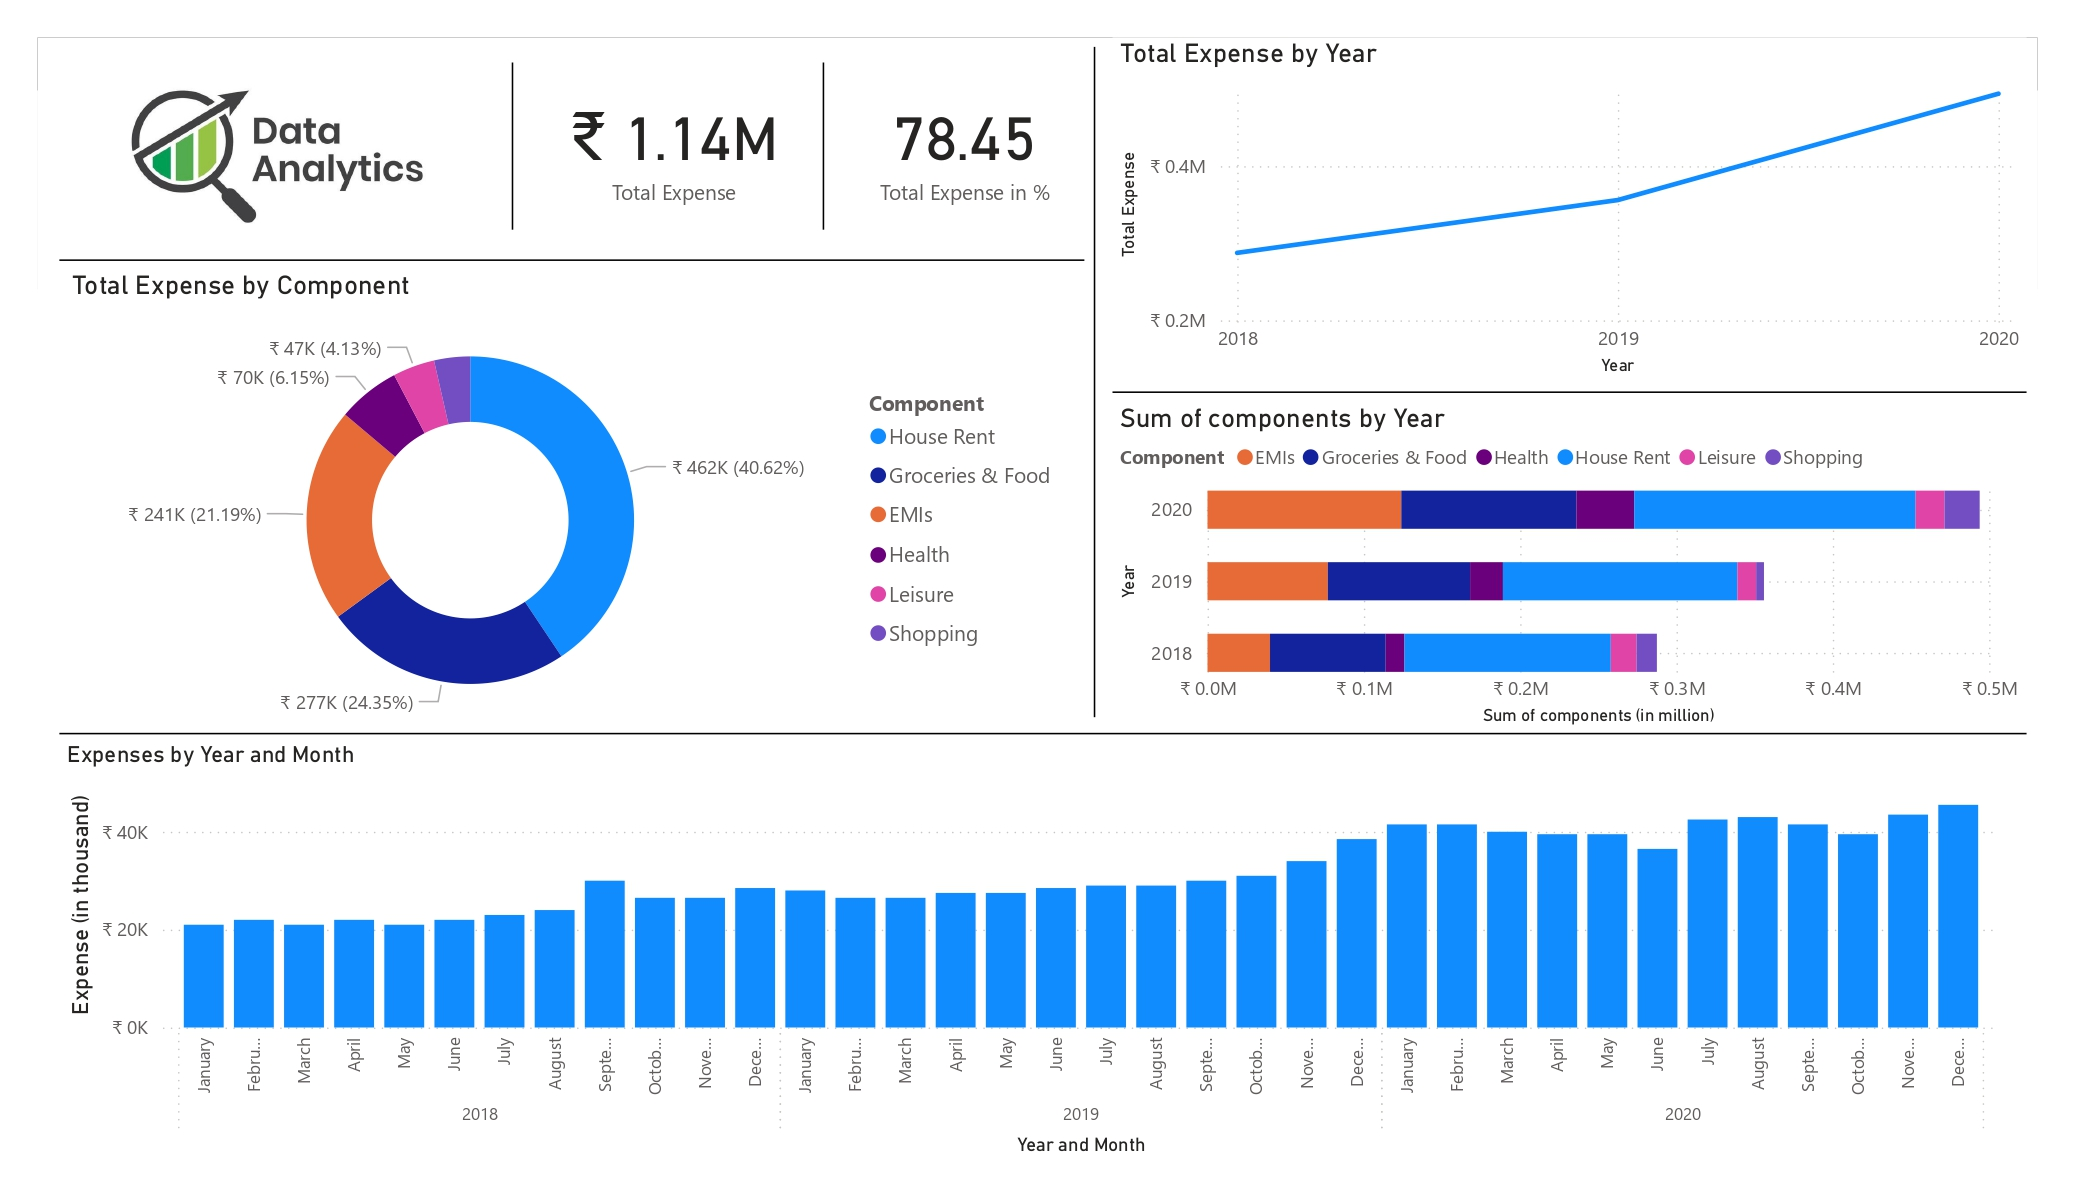

This screenshot's page, from the dashboard's own definition file:
{"tool":"powerbi","page":{"name":"Expenses","canvas":[1280,720],"ordinal":2},"visuals":[{"type":"columnChart","title":"Expenses by Year and Month","fields":{"Category":["FinData.Date.Variation.Date Hierarchy.Year","FinData.Date.Variation.Date Hierarchy.Month"],"Y":["FinData.Total Expense"]},"box":[13.8,451.2,1246.2,268.8],"z":0},{"type":"image","box":[0,0,307.4,142],"z":1000},{"type":"card","fields":{"Values":["FinData.Total Expense"]},"box":[321,23.5,172.8,93.8],"z":2000},{"type":"card","fields":{"Values":["FinData.Total Expense in %"]},"box":[503.7,23.5,179,93.8],"z":3000},{"type":"donutChart","fields":{"Category":["FinData.Component"],"Y":["FinData.Total Expense"]},"box":[17.3,148.1,645.7,302.5],"z":4000},{"type":"barChart","title":"Sum of components by Year","fields":{"Category":["FinData.Year"],"Series":["FinData.Component"],"Y":["FinData.Total Expense"]},"box":[687.5,232.5,585,212.5],"z":5000},{"type":"shape","box":[301.2,16,6.2,107.4],"z":6000},{"type":"shape","box":[495.1,16,16,107.4],"z":7000},{"type":"shape","box":[670,6.2,12.5,428.8],"z":8000},{"type":"shape","box":[13.8,136.2,656.2,12.5],"z":9000},{"type":"shape","box":[13.8,440,1258.8,11.2],"z":10000},{"type":"shape","box":[687.5,221.2,585,11.2],"z":11000},{"type":"lineChart","fields":{"Y":["FinData.Total Expense"],"Category":["FinData.Date.Variation.Date Hierarchy.Year"]},"box":[687.5,0,585,221.2],"z":12000}]}

Visuals, with their boxes in screenshot pixels (x1, y1, x2, y2):
"Expenses by Year and Month" columnChart: 59, 742, 2006, 1162
image: 38, 38, 518, 259
card - FinData.Total Expense: 539, 74, 809, 221
card - FinData.Total Expense in %: 825, 74, 1104, 221
donutChart - FinData.Component x FinData.Total Expense: 65, 269, 1073, 742
"Sum of components by Year" barChart: 1112, 401, 2026, 733
shape: 508, 62, 518, 230
shape: 811, 62, 836, 230
shape: 1084, 47, 1104, 717
shape: 59, 250, 1084, 270
shape: 59, 725, 2026, 742
shape: 1112, 383, 2026, 401
lineChart - FinData.Total Expense x FinData.Date.Variation.Date Hierarchy.Year: 1112, 38, 2026, 383
